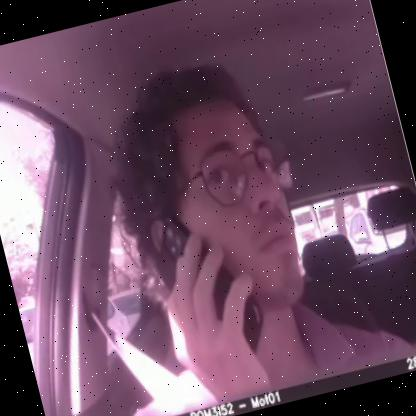phone: (144, 199, 282, 380)
